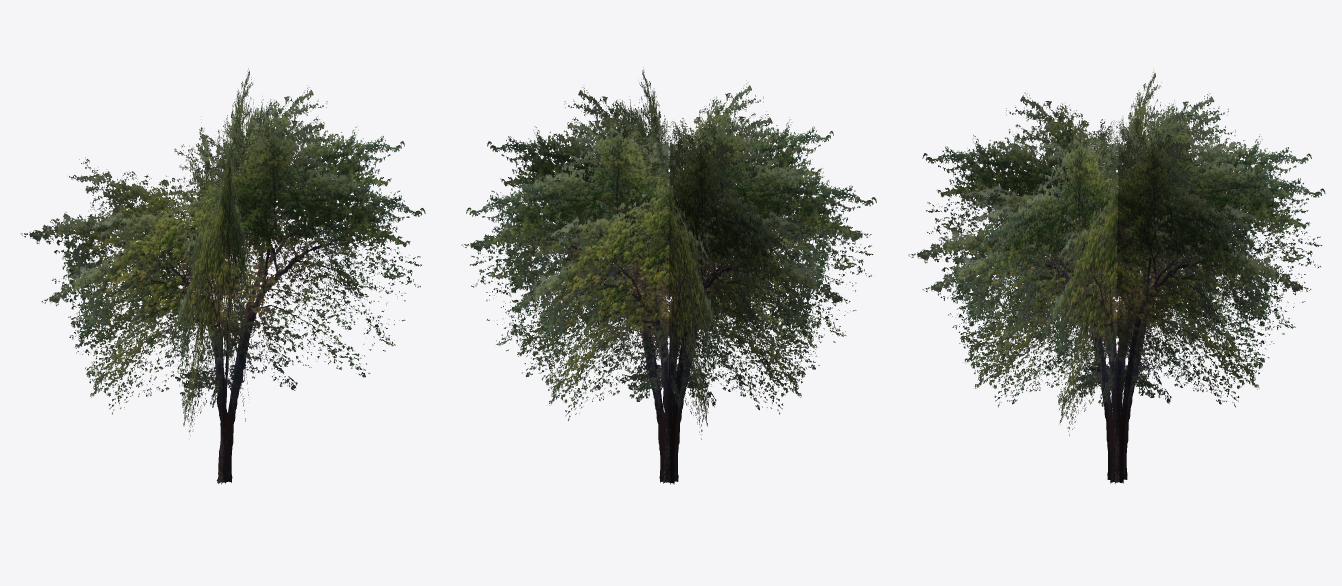
The model's file is arvore1.glb.
The picture shows the model from 3 angles, left to right: view 1: azimuth 30°, elevation 25°; view 2: azimuth 150°, elevation 25°; view 3: azimuth 270°, elevation 25°; orthographic projection.
Visible parts, largest first — view 1: 57a550fc1682d4d90c87918375b11f61.002, 57a550fc1682d4d90c87918375b11f61.001, 57a550fc1682d4d90c87918375b11f61.003, 57a550fc1682d4d90c87918375b11f61.007; view 2: 57a550fc1682d4d90c87918375b11f61.007, 57a550fc1682d4d90c87918375b11f61.003, 57a550fc1682d4d90c87918375b11f61.005, 57a550fc1682d4d90c87918375b11f61.001, 57a550fc1682d4d90c87918375b11f61.006, 57a550fc1682d4d90c87918375b11f61.002; view 3: 57a550fc1682d4d90c87918375b11f61.007, 57a550fc1682d4d90c87918375b11f61.003, 57a550fc1682d4d90c87918375b11f61, 57a550fc1682d4d90c87918375b11f61.002, 57a550fc1682d4d90c87918375b11f61.004, 57a550fc1682d4d90c87918375b11f61.006.
Part boxes in pixels (x1,y1,x2,y2): 57a550fc1682d4d90c87918375b11f61.002: (21, 116, 425, 482); 57a550fc1682d4d90c87918375b11f61.001: (41, 87, 404, 483); 57a550fc1682d4d90c87918375b11f61.003: (168, 69, 277, 484); 57a550fc1682d4d90c87918375b11f61.007: (193, 116, 252, 483); 57a550fc1682d4d90c87918375b11f61.007: (505, 80, 833, 483); 57a550fc1682d4d90c87918375b11f61.003: (466, 117, 871, 482); 57a550fc1682d4d90c87918375b11f61.005: (461, 111, 876, 481); 57a550fc1682d4d90c87918375b11f61.001: (487, 87, 850, 415); 57a550fc1682d4d90c87918375b11f61.006: (571, 123, 798, 484); 57a550fc1682d4d90c87918375b11f61.002: (615, 67, 721, 484); 57a550fc1682d4d90c87918375b11f61.007: (922, 92, 1311, 482); 57a550fc1682d4d90c87918375b11f61.003: (972, 124, 1264, 483); 57a550fc1682d4d90c87918375b11f61: (908, 108, 1325, 479); 57a550fc1682d4d90c87918375b11f61.002: (968, 124, 1240, 483); 57a550fc1682d4d90c87918375b11f61.004: (922, 93, 1311, 482); 57a550fc1682d4d90c87918375b11f61.006: (1038, 72, 1194, 483).
Size of the model in its own units: 1 by 1 by 1.
Materials: 1 (1 with a texture image).
